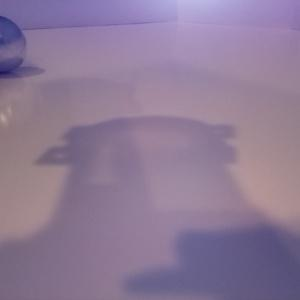alive_ball: (1, 16, 27, 75)
